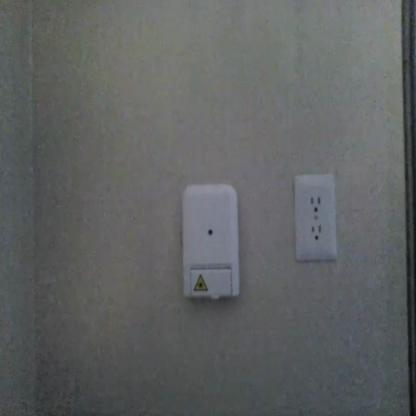OUTLET: (294, 174, 338, 260)
